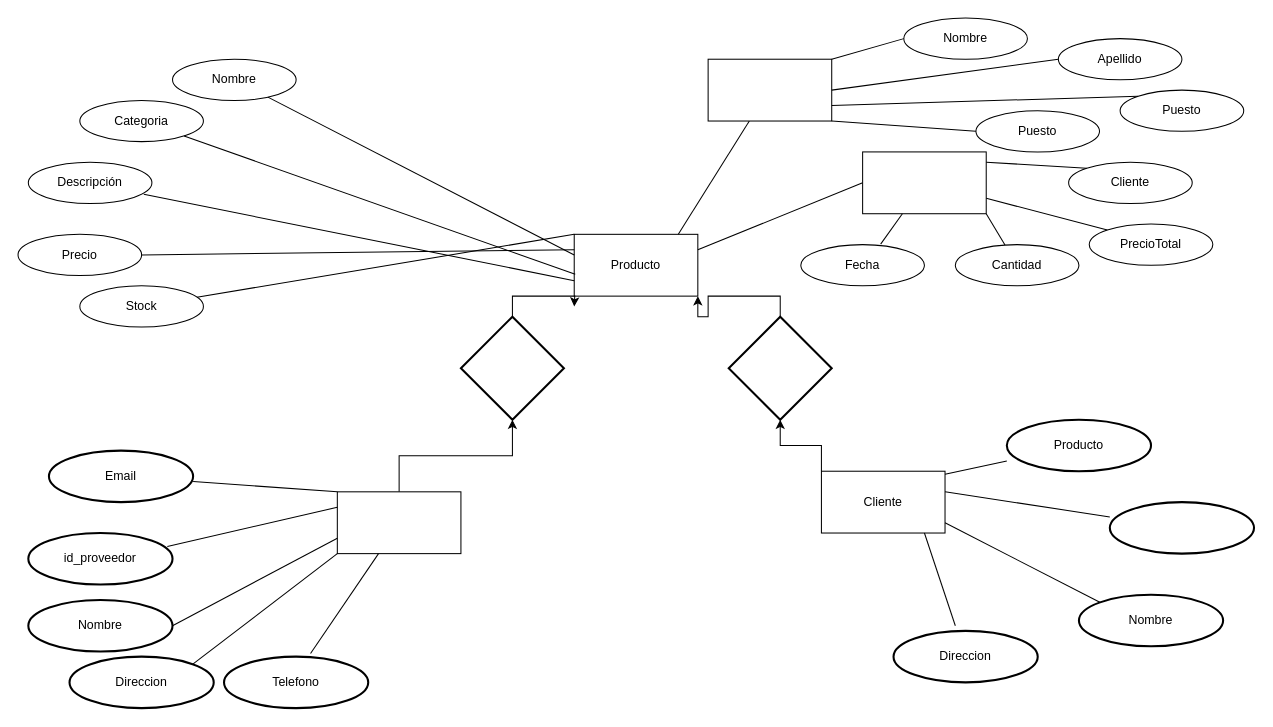
This 1273x727 diagram has some shape labels left out. Each missing label, with the centre of its shape:
Compra: the point at 779,367
Empleado: the point at 769,89
id_cliente: the point at 1181,527
Proveedor: the point at 398,522
Transaccion/Venta: the point at 924,182
Vende: the point at 511,367
